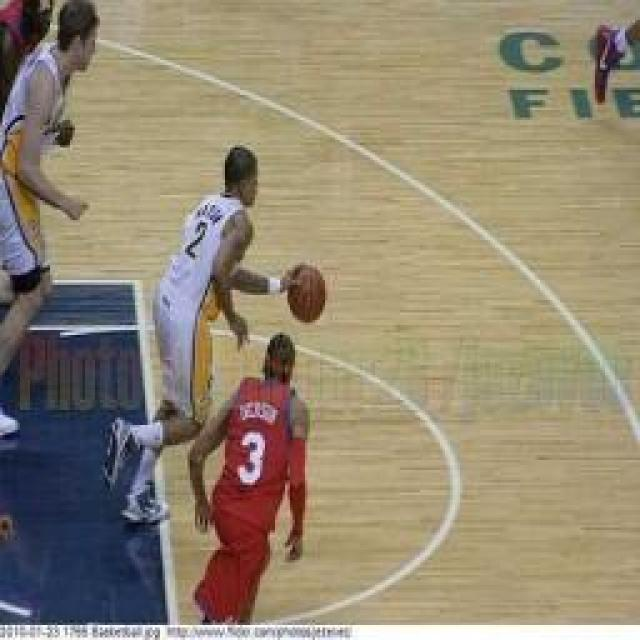ball: (282, 260, 330, 328)
person: (97, 142, 305, 530), (0, 0, 105, 445), (191, 330, 314, 625)
